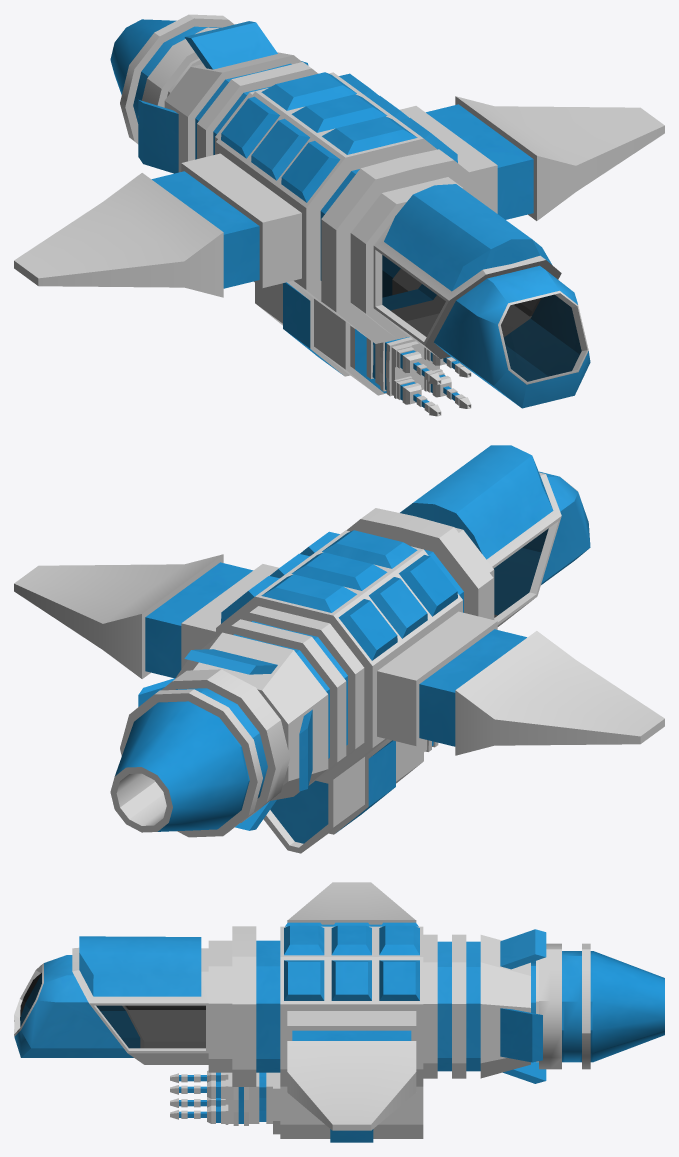
The model's file is BCC.fbx.
3 views of the same model, one above another, from view 1: azimuth 30°, elevation 25°; view 2: azimuth 150°, elevation 25°; view 3: azimuth 270°, elevation 25° (orthographic). The views are drawn at different scales.
Visible parts, largest first — view 1: BCC; view 2: BCC; view 3: BCC.
Part boxes in pixels (x1,y1,x2,y2): BCC: (14,14,664,416); BCC: (14,445,664,853); BCC: (14,882,664,1142).
Bounding box in the file's own units: 8 × 3.15 × 9.09.
